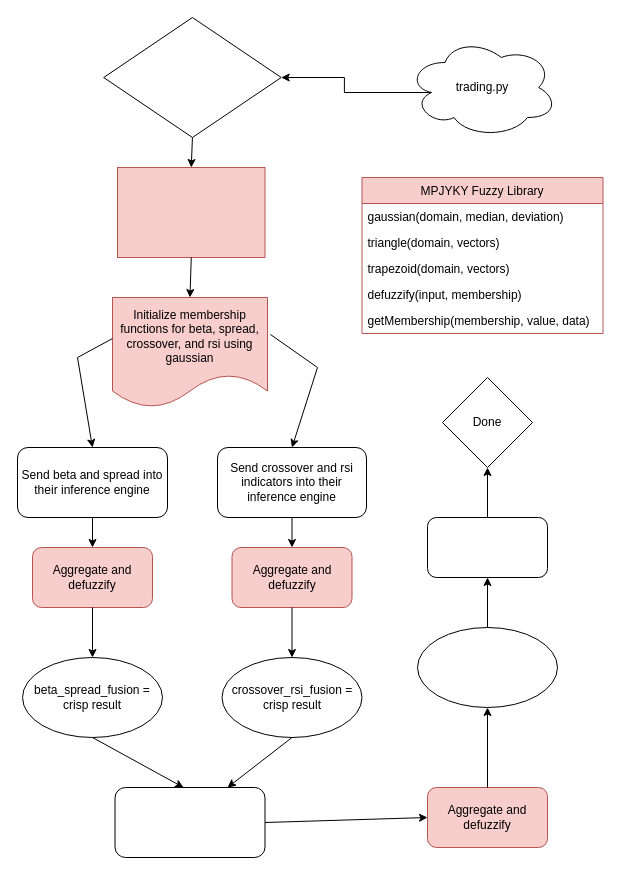
Image size: 621x875. Some labels were removed from this diagram. The centre of each missing label's shape, as x and y in pixels:
"Classify result" belongs at [487,547].
"indicator = crisp result" belongs at [487,667].
"Initialize fusion and indicator membership functions using triangle" belongs at [190,212].
"Initialize Stock Data and membership bounds" belongs at [192,77].
"Send results into their inference engine" belongs at [189,822].
